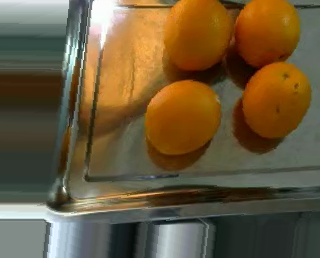Orange: (144, 78, 222, 154), (241, 61, 313, 138), (163, 1, 233, 70), (233, 1, 302, 68)
